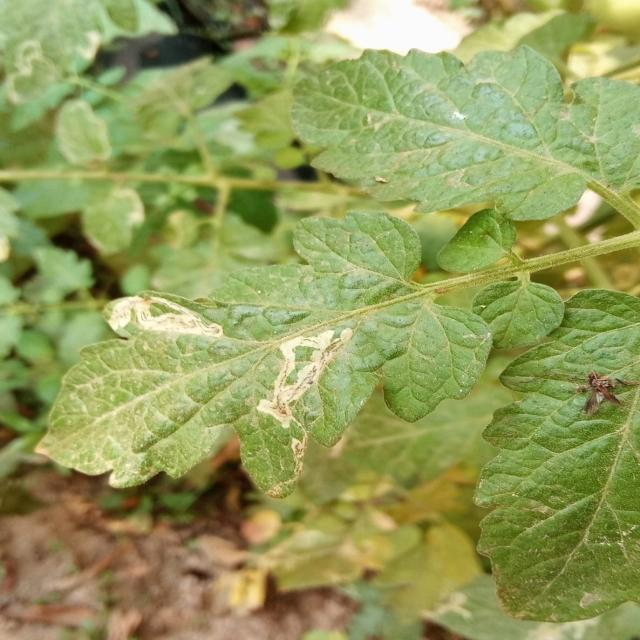Tuta absoluta: (243, 302, 358, 433), (107, 294, 224, 338), (264, 426, 318, 503)
